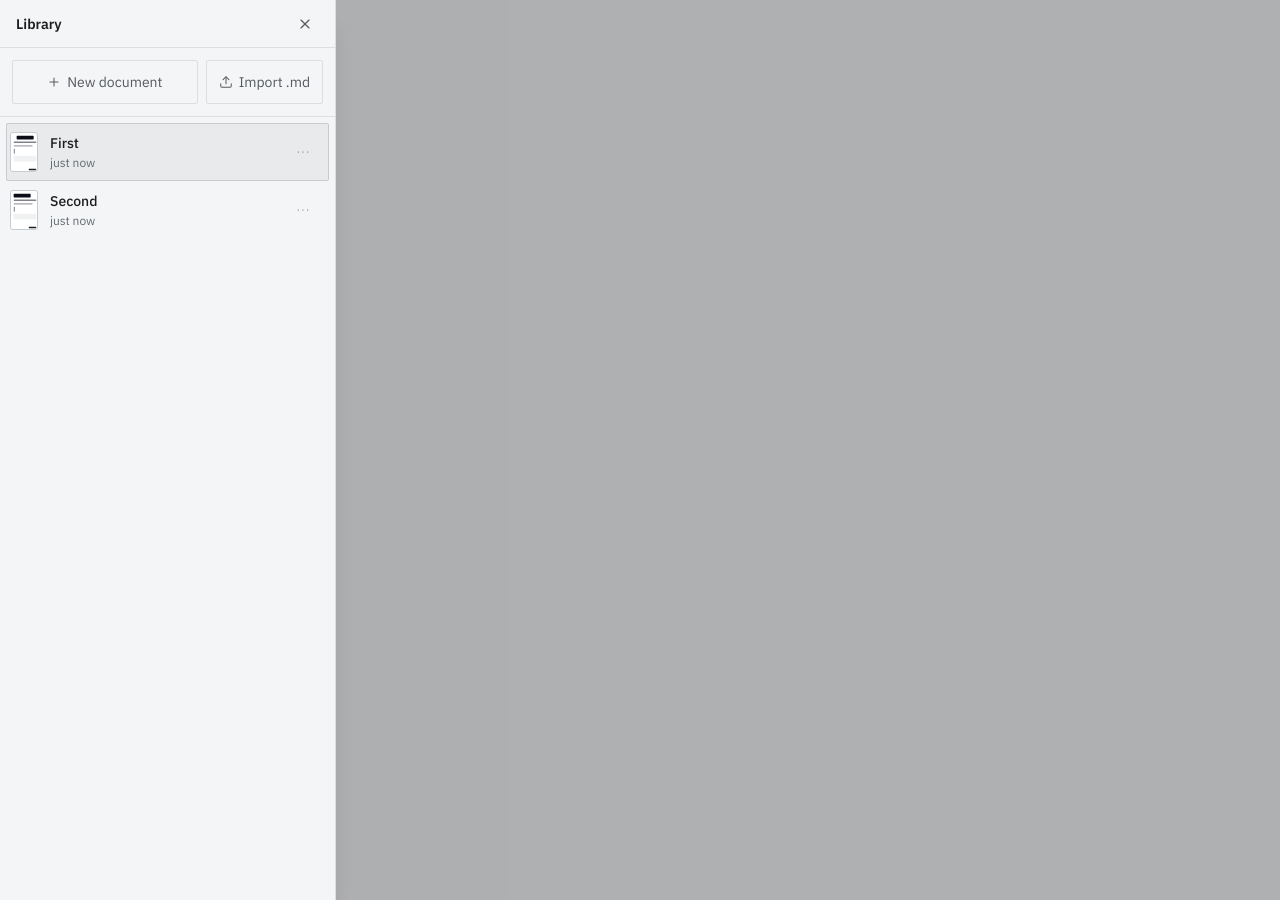
Scenario: LibraryPanel › offers every row action through the coarse-pointer kebab menu
Click the button named "Actions for First".
click(303, 152)  # box [281,130,325,174]
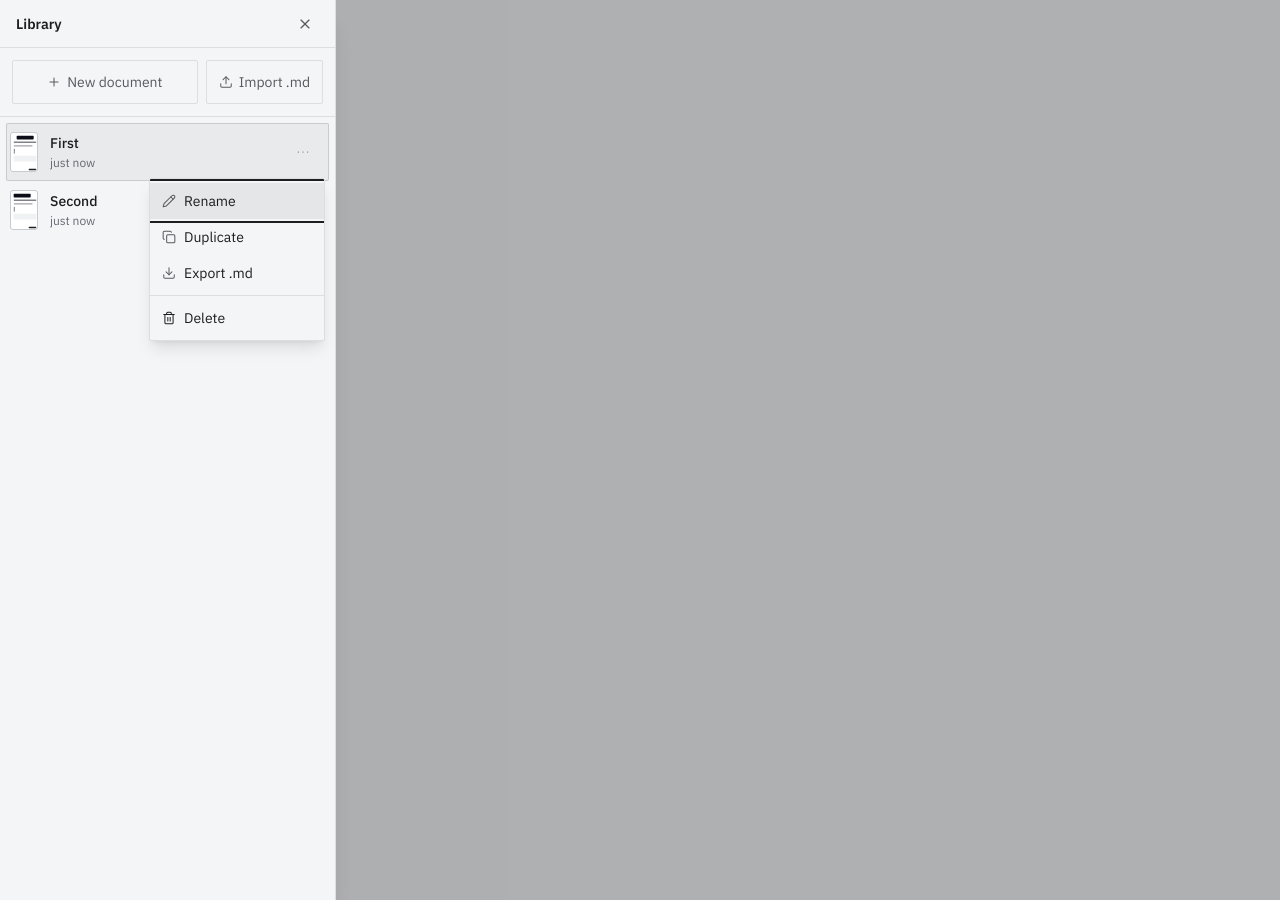
Click the menu item "Delete".
click(237, 318)  # box [150,300,324,336]
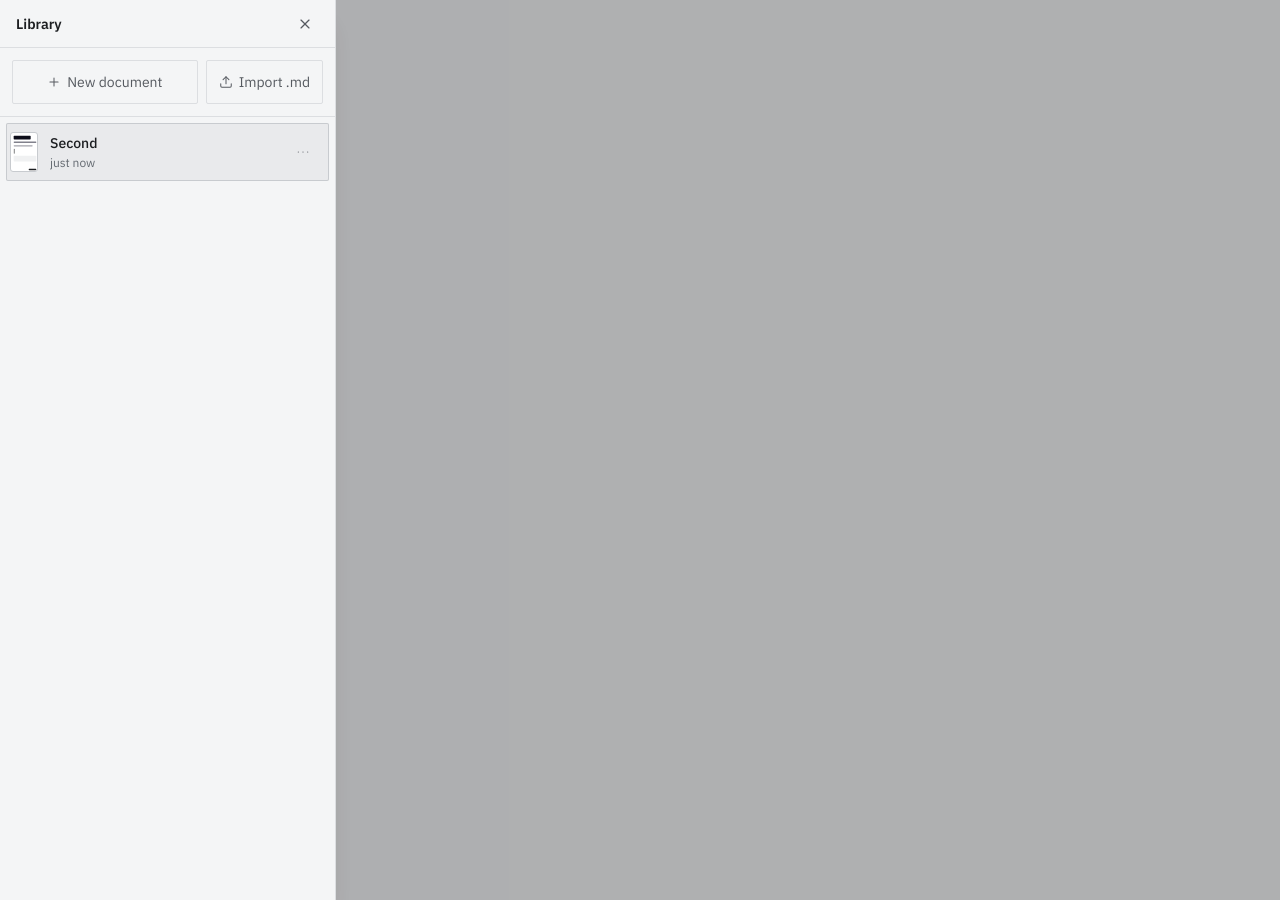
expect the button "Actions for First" is gone: met
